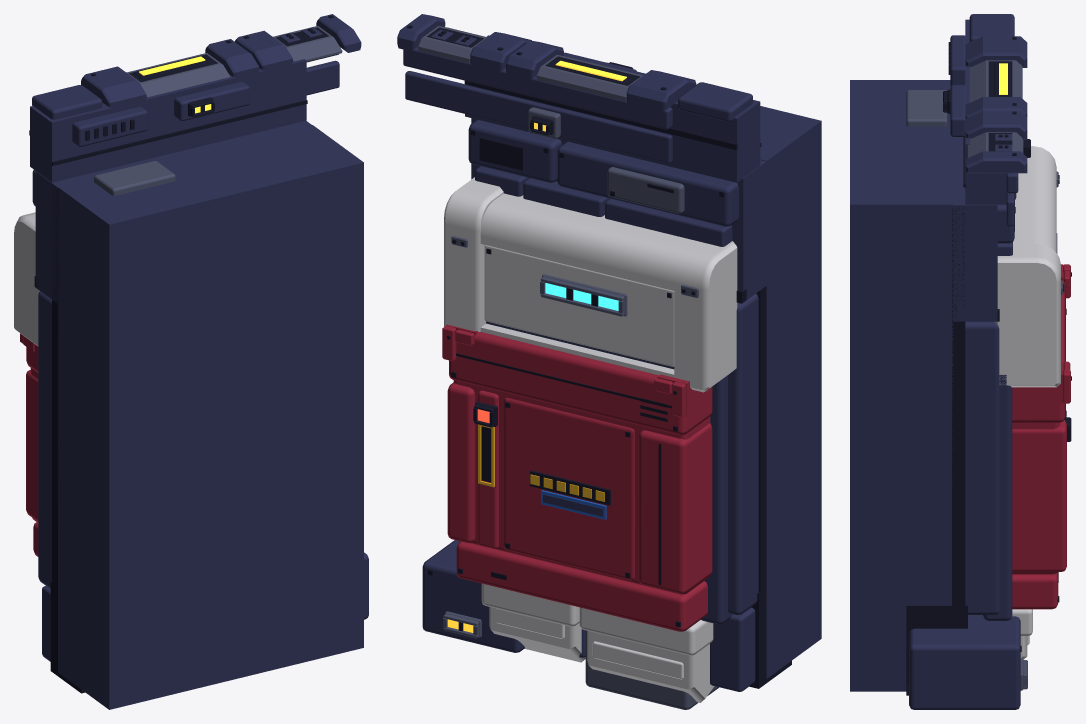
Rendered from hull.bay.red_hatch.bumper.navy.plate.w2.000.s6.k-2.4.glb.
3 renders of one model, left to right at view 1: azimuth 30°, elevation 25°; view 2: azimuth 150°, elevation 25°; view 3: azimuth 270°, elevation 25°, orthographic. The views are drawn at different scales.
Visible parts, largest first — view 1: hull.bay.red_hatch.bumper.navy.plate.w2.000.s6.k-2.4; view 2: hull.bay.red_hatch.bumper.navy.plate.w2.000.s6.k-2.4; view 3: hull.bay.red_hatch.bumper.navy.plate.w2.000.s6.k-2.4.
Part boxes in pixels (x1,y1,x2,y2): hull.bay.red_hatch.bumper.navy.plate.w2.000.s6.k-2.4: (14, 14, 368, 709); hull.bay.red_hatch.bumper.navy.plate.w2.000.s6.k-2.4: (397, 14, 821, 709); hull.bay.red_hatch.bumper.navy.plate.w2.000.s6.k-2.4: (850, 14, 1071, 709).
Bounding box in the file's own units: 2.44 × 4.33 × 1.5.
